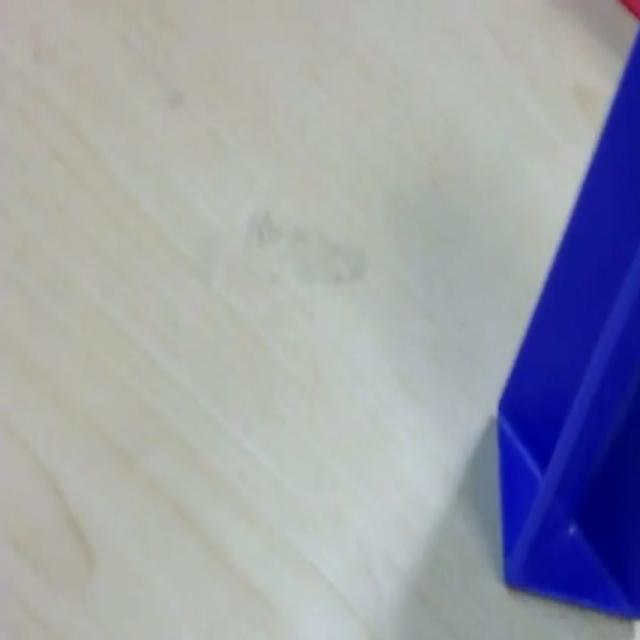blue_block: (495, 22, 639, 618)
